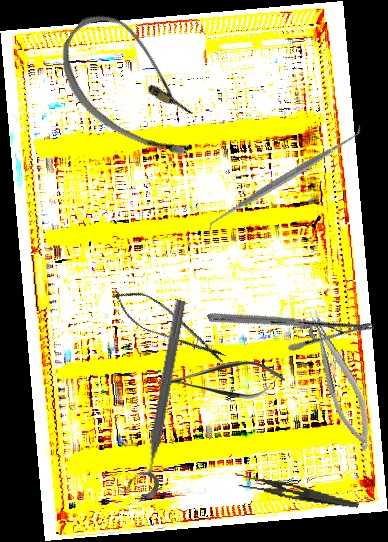Cannula: (39, 0, 227, 175)
Dressing Forceps: (232, 471, 361, 509)
Fixation Ring: (124, 296, 192, 500)
Micro Scissor: (104, 279, 234, 372), (158, 360, 285, 399)
Needle Holder: (206, 251, 375, 393), (301, 303, 381, 456)
Spatula Surgical: (198, 122, 370, 237)
